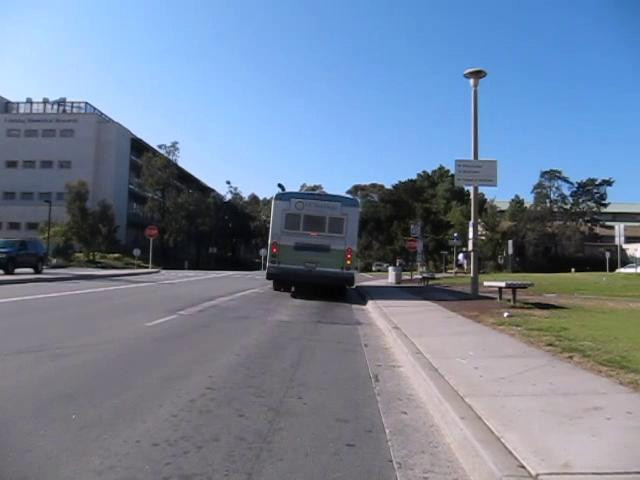stop: (144, 224, 159, 239)
